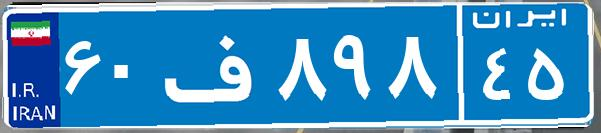0: (110, 28, 158, 105)
4: (475, 38, 525, 113)
5: (525, 38, 570, 115)
6: (57, 26, 110, 107)
8: (385, 28, 445, 110), (273, 28, 330, 110)
9: (330, 28, 385, 110)
ف: (158, 15, 273, 115)
